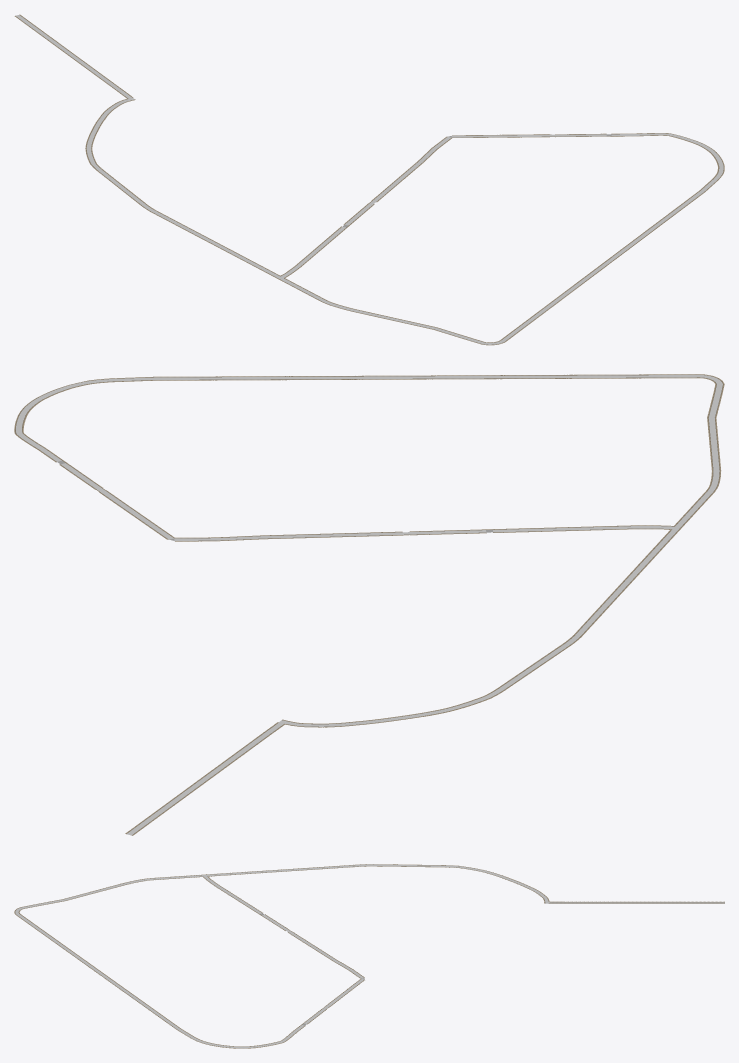
Rendered from Road.fbx.
3 views of the same model, one above another, from view 1: azimuth 30°, elevation 25°; view 2: azimuth 150°, elevation 25°; view 3: azimuth 270°, elevation 25° (orthographic). The views are drawn at different scales.
Parts seen in each view (by area): view 1: polySurface1045; view 2: polySurface1045; view 3: polySurface1045.
Part boxes in pixels (x1=…): polySurface1045: x1=14, y1=14, x2=724, y2=345; polySurface1045: x1=14, y1=374, x2=724, y2=835; polySurface1045: x1=14, y1=864, x2=724, y2=1048.
Bounding box in the file's own units: 798 × 0.3785 × 1299.
